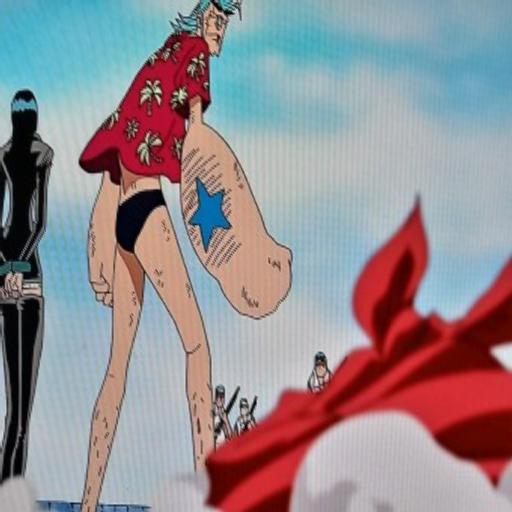NicoRobin: (0, 78, 49, 143)
